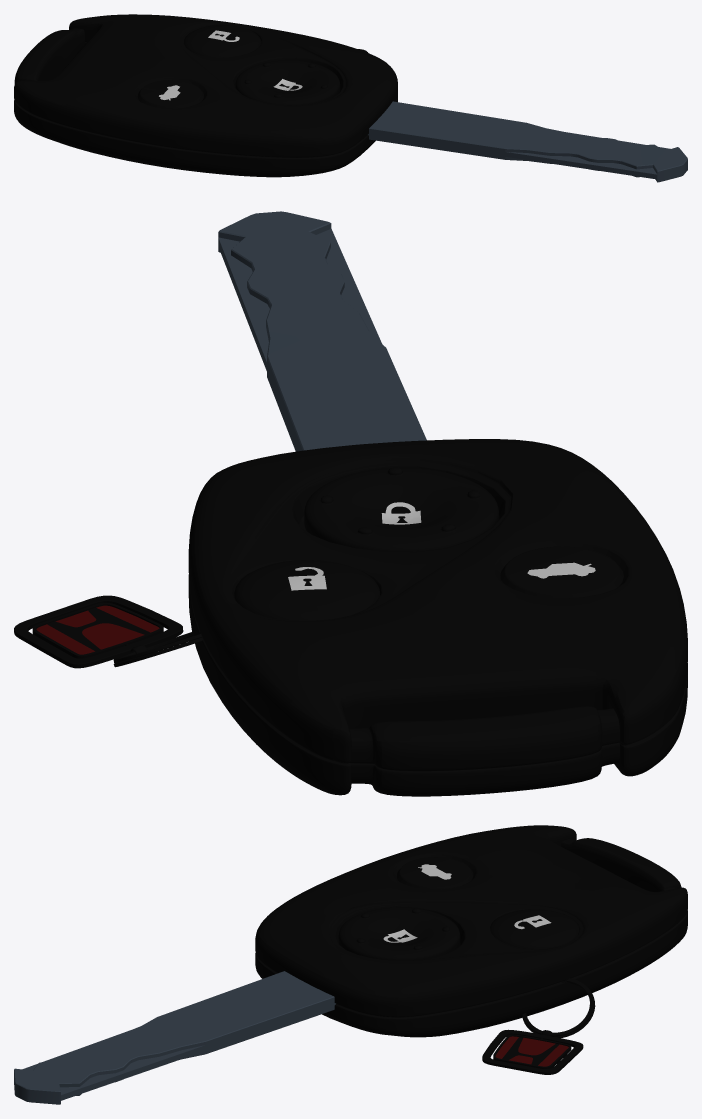
File: key2.FBX
3 views of the same model, one above another, from view 1: azimuth 30°, elevation 25°; view 2: azimuth 150°, elevation 25°; view 3: azimuth 270°, elevation 25° (orthographic). The views are drawn at different scales.
Parts seen in each view (by area): view 1: 05, 09, 06, 08; view 2: 05, 09, 06, 03, 04, 08, 02; view 3: 05, 09, 06, 03, 04, 08, 02.
Boxes of the visible parts, <box> form: 05: <box>14,14,397,177</box>; 09: <box>368,101,687,182</box>; 06: <box>137,25,340,108</box>; 08: <box>159,30,302,100</box>; 05: <box>188,439,687,796</box>; 09: <box>218,211,426,451</box>; 06: <box>234,467,623,620</box>; 03: <box>14,595,183,668</box>; 04: <box>36,605,159,654</box>; 08: <box>288,502,595,590</box>; 02: <box>113,599,235,667</box>; 05: <box>255,825,687,1037</box>; 09: <box>14,971,335,1104</box>; 06: <box>338,857,579,960</box>; 03: <box>482,1029,583,1074</box>; 04: <box>495,1036,568,1066</box>; 08: <box>383,864,551,942</box>; 02: <box>522,978,595,1037</box>.
Size of the model in its own units: 304 by 40.16 by 342.
